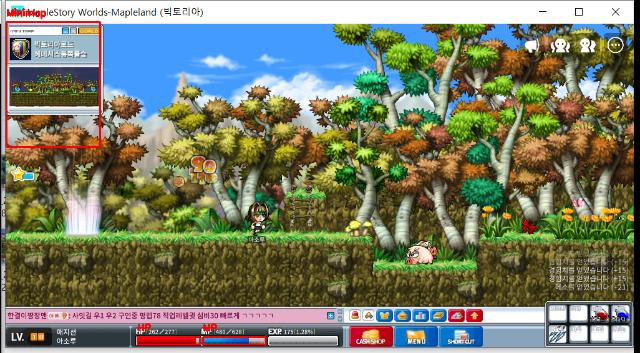me: (247, 200, 267, 238)
pig: (404, 239, 436, 264)
